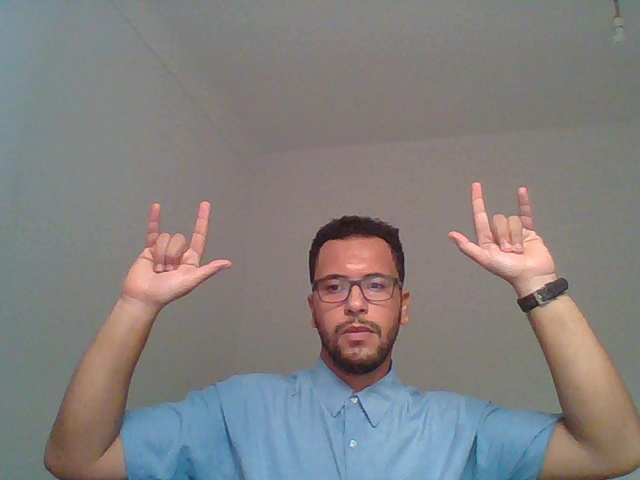iloveyou: (57, 152, 261, 444), (430, 149, 606, 454)
